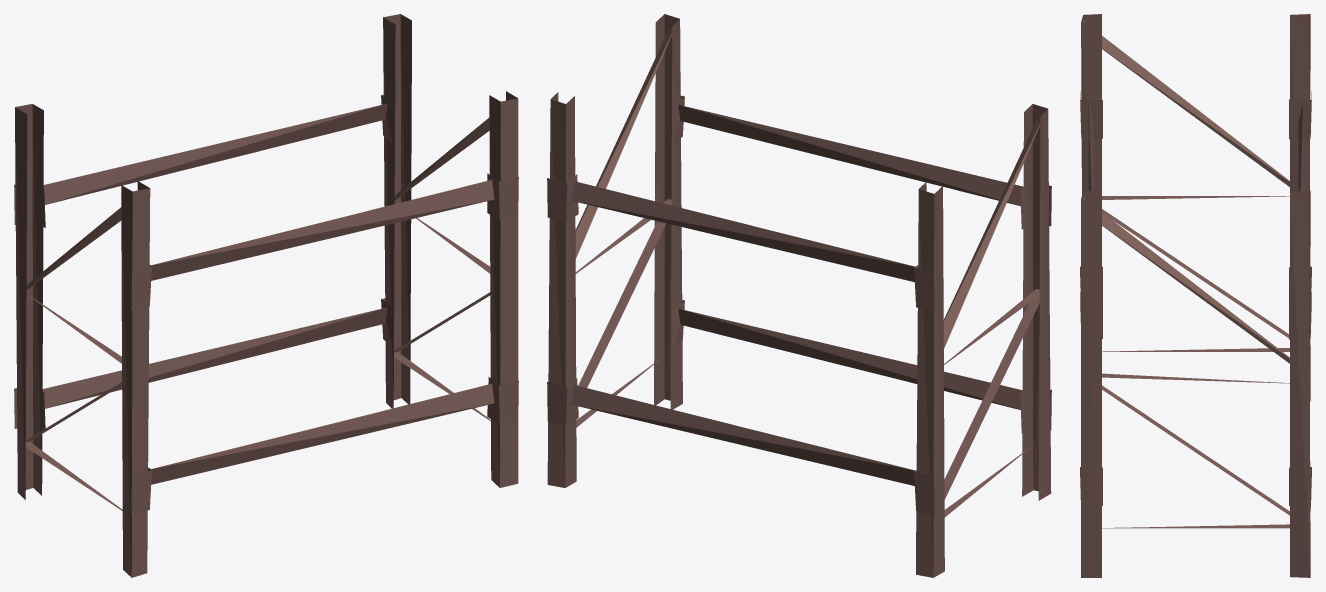
Rendered from ss-pallet-rack.lod2.glb.
The picture shows the model from 3 angles, left to right: view 1: azimuth 30°, elevation 25°; view 2: azimuth 150°, elevation 25°; view 3: azimuth 270°, elevation 25°; orthographic projection.
Parts seen in each view (by area): view 1: PalletRacking_1_PalletRacking_1_0; view 2: PalletRacking_1_PalletRacking_1_0; view 3: PalletRacking_1_PalletRacking_1_0.
Part boxes in pixels (x1,y1,x2,y2): PalletRacking_1_PalletRacking_1_0: (14,14,518,577); PalletRacking_1_PalletRacking_1_0: (547,14,1051,577); PalletRacking_1_PalletRacking_1_0: (1080,14,1311,577).
Bounding box in the file's own units: 4.2 × 4 × 2.22.
